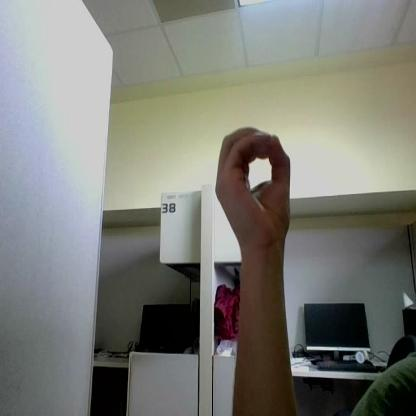O: (216, 126, 290, 249)
